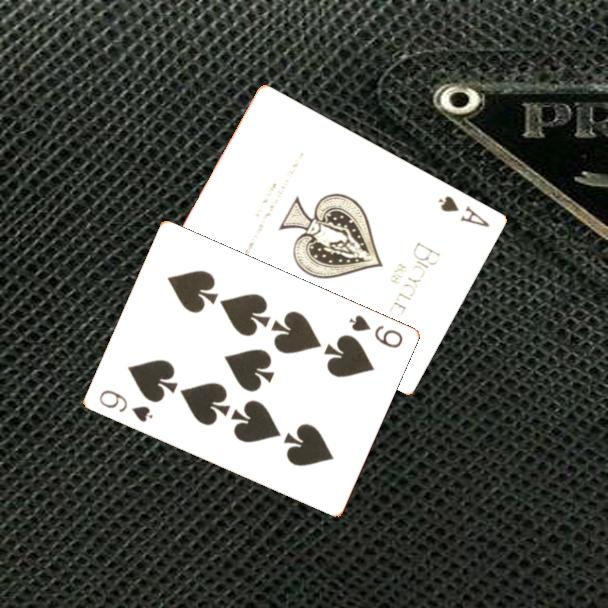s01: (435, 192, 493, 230)
s09: (345, 311, 406, 351), (95, 386, 155, 425)
